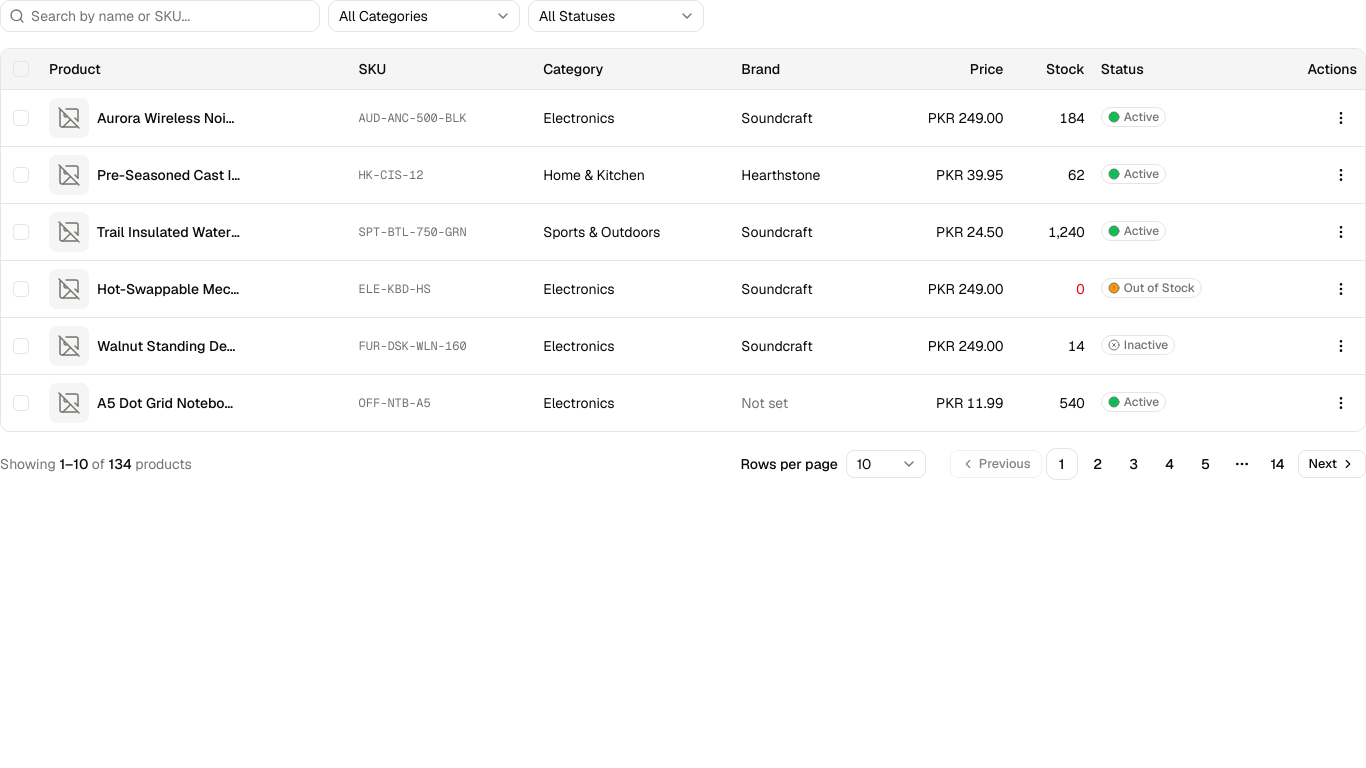
Scenario: ProductsList deleting › reports why it failed and keeps the selection
The image size is (1366, 768).
Expected: the text "Aurora Wireless Noise-Cancelling Headphones" is shown, [97,108,241,128]
Click the checkbox named "Select A5 Dot Grid Notebook, 3-Pack" at (21, 402), box [13,394,29,410]
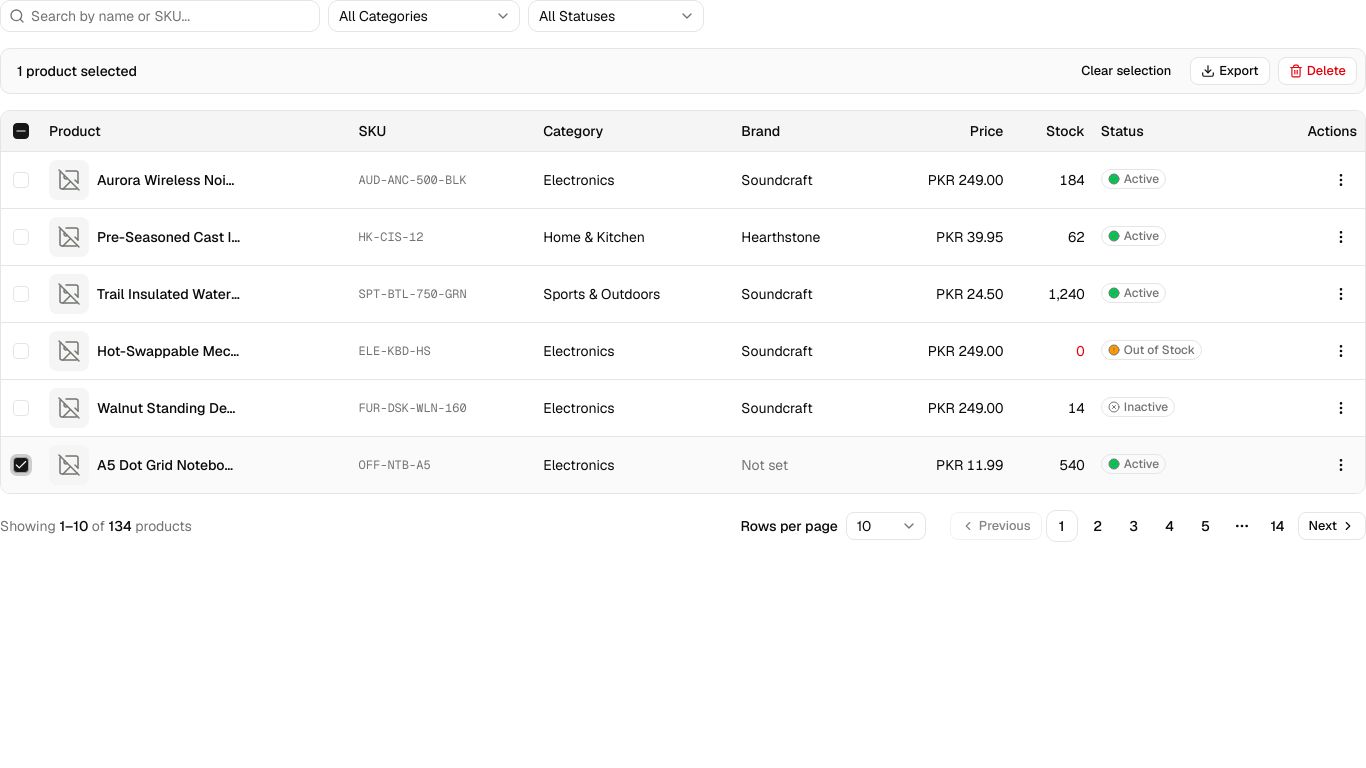
Click the button "Delete" at (1317, 71), box [1278,57,1357,85]
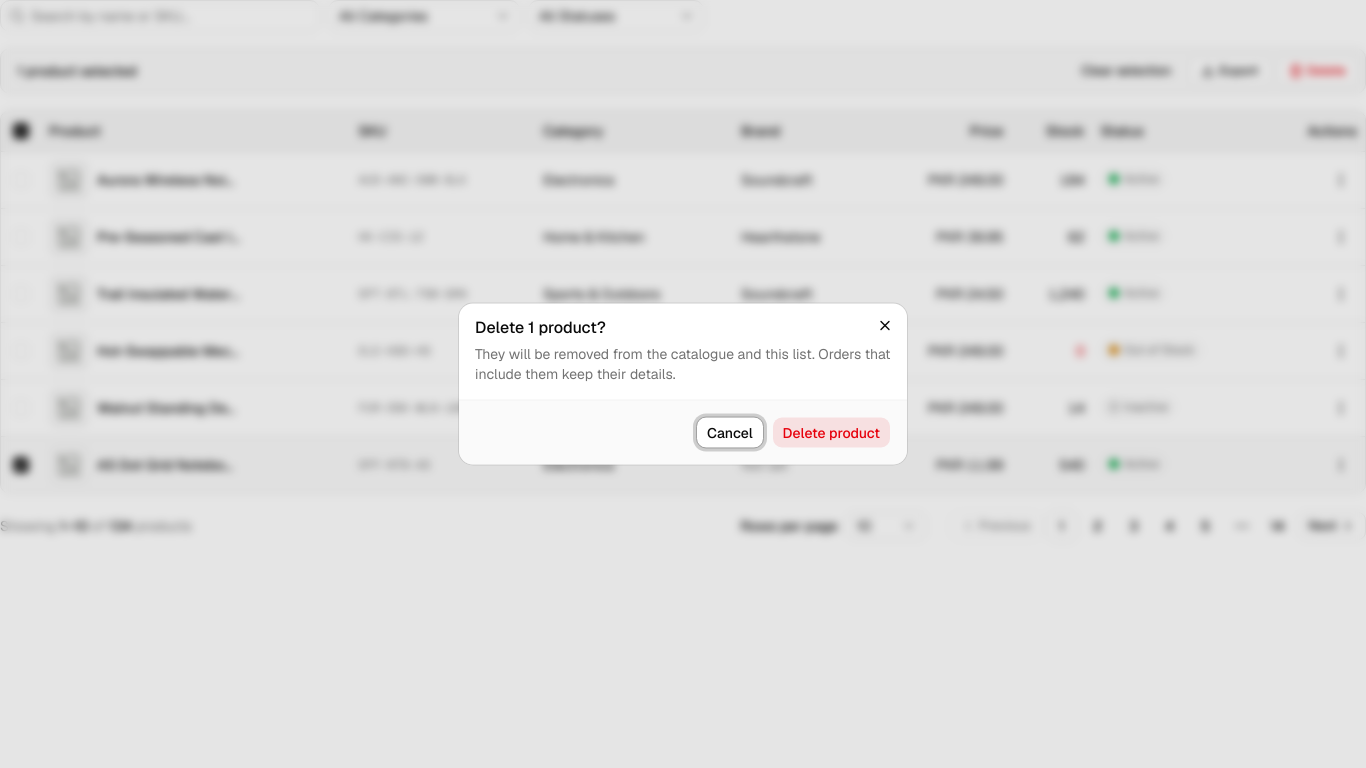
Click the button "Delete product" at (831, 432), box [772,416,891,448]
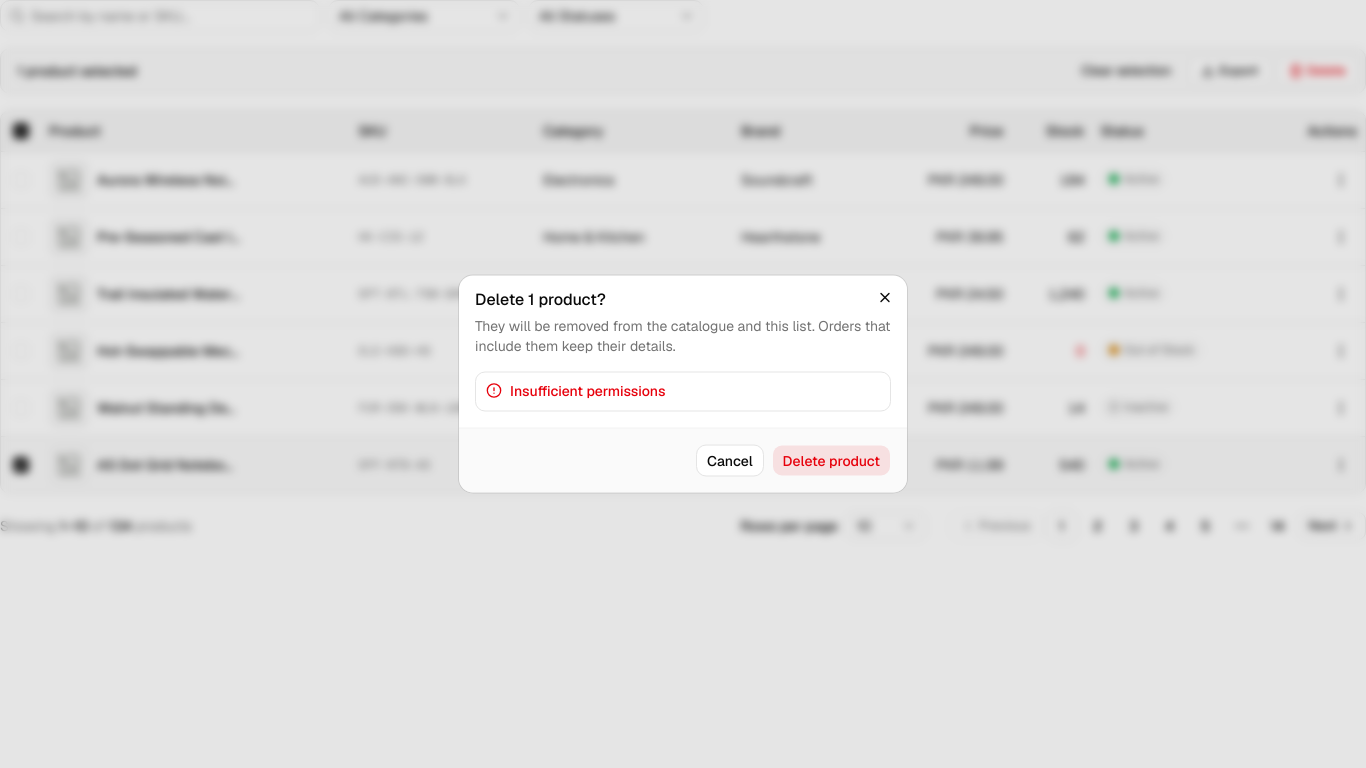
Now the message reads "Insufficient permissions", box [510,382,665,400]
